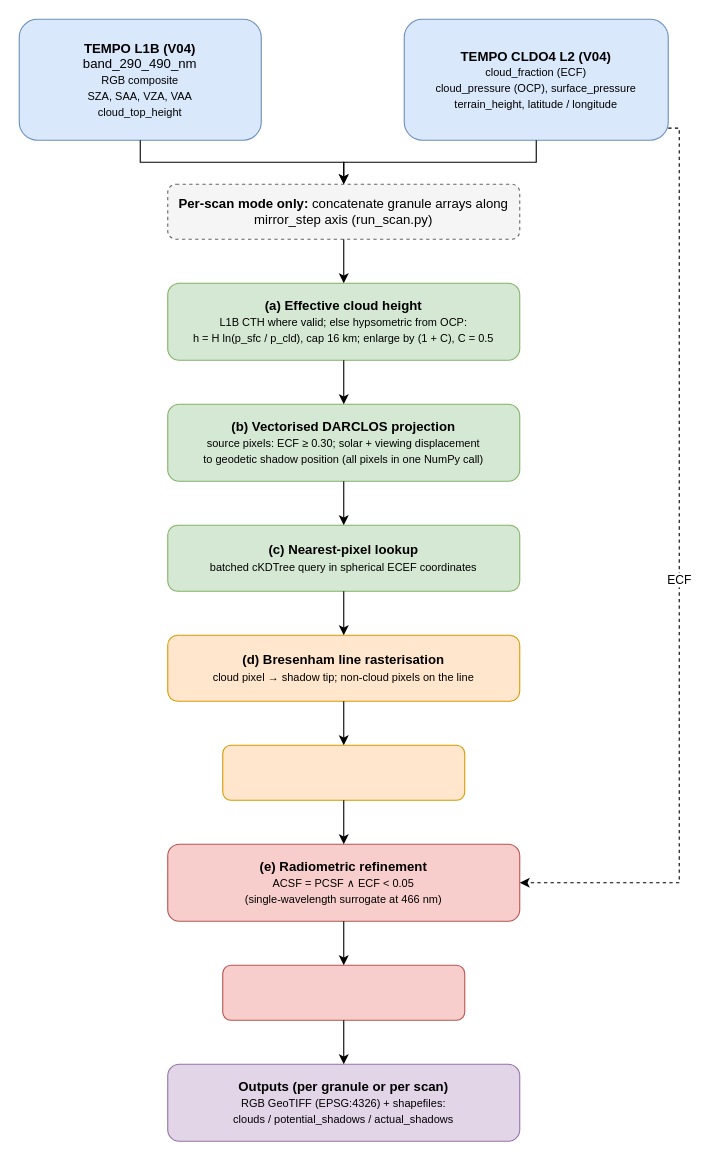
The diagram is 711 pixels wide and 1161 high, and some of its shapes have lost their labels. The shapes that lost their labels are listed below. From the top down, each one's box as (x1, y1, x2, y2) in pixels, then its label:
(222, 744, 465, 800): PCSF Potential Cloud Shadow Flag
(222, 964, 465, 1020): ACSF Actual Cloud Shadow Flag
